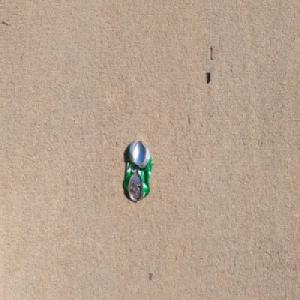SodaCan: (123, 138, 153, 202)
